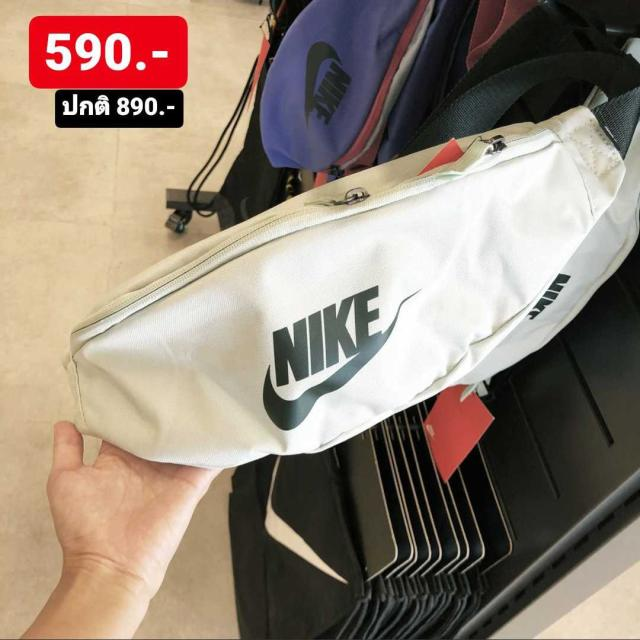handbag: (68, 87, 640, 465)
